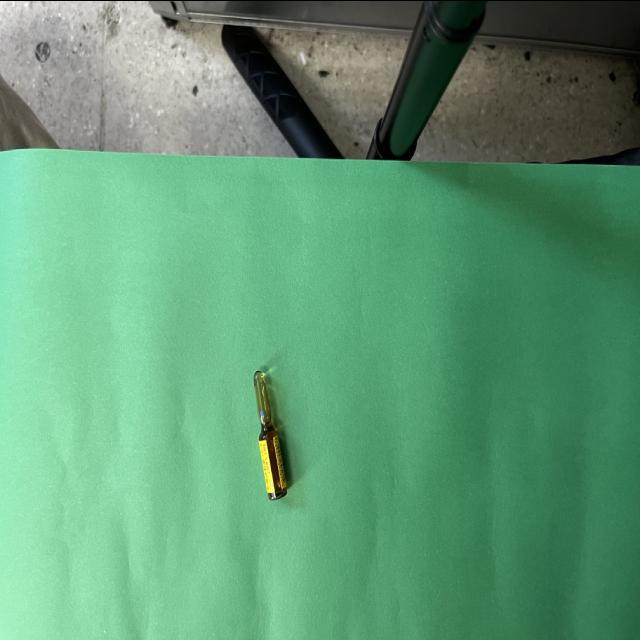Ampoules: (254, 369, 288, 499)
